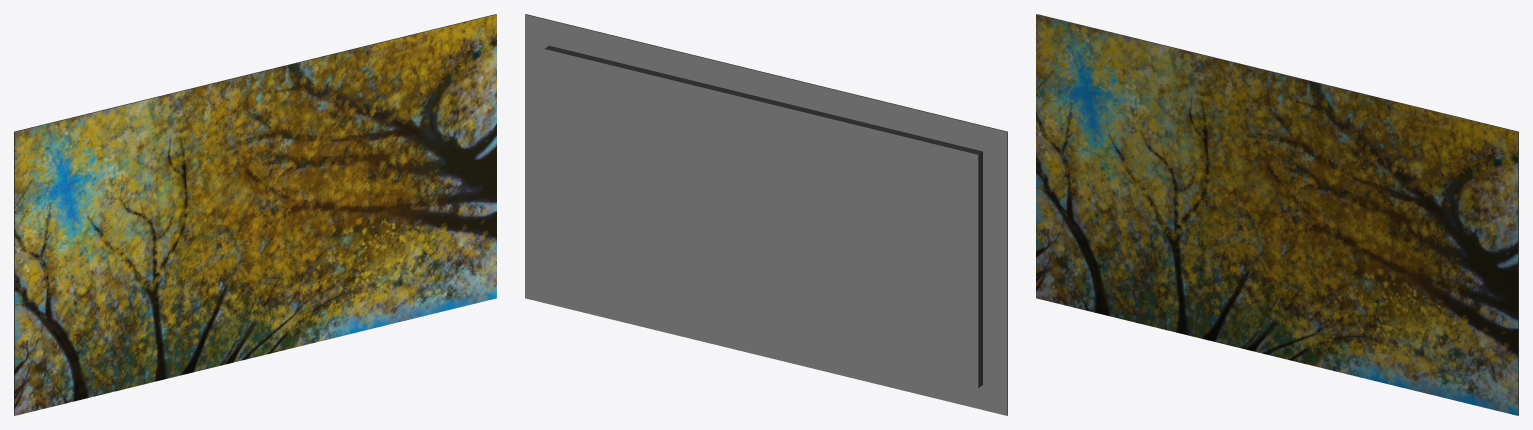
Rendered from hz042_grand_dibond.glb.
The picture shows the model from 3 angles, left to right: view 1: azimuth 30°, elevation 25°; view 2: azimuth 150°, elevation 25°; view 3: azimuth 330°, elevation 25°; orthographic projection.
Visible parts, largest first — view 1: hz042_grand_dibond; view 2: hz042_grand_dibond; view 3: hz042_grand_dibond.
Part boxes in pixels (bbox=[...]): hz042_grand_dibond: bbox=[14, 14, 496, 415]; hz042_grand_dibond: bbox=[525, 14, 1007, 415]; hz042_grand_dibond: bbox=[1036, 14, 1518, 415].
Bounding box in the file's own units: 1.2 × 0.675 × 0.023.
4 materials, 1 textured.
